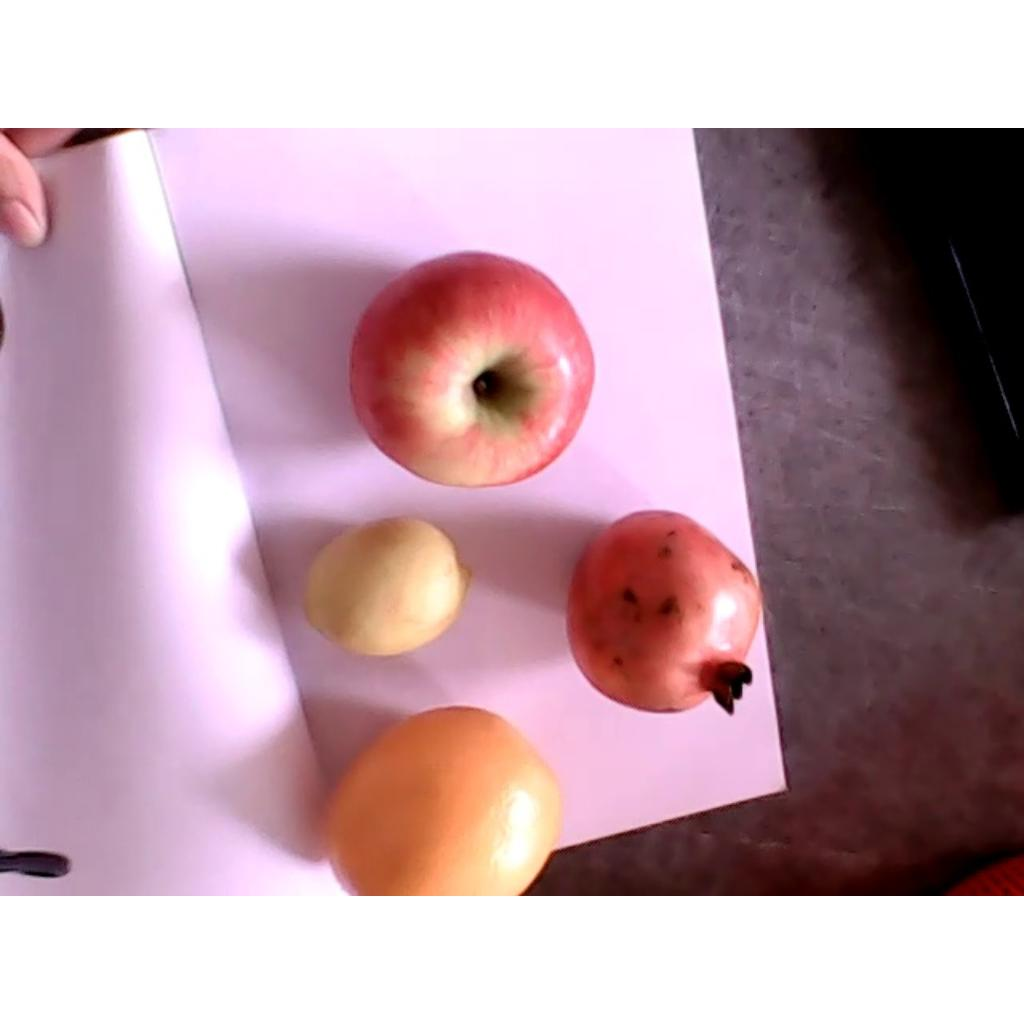apple: (348, 252, 594, 489)
lemon: (300, 516, 470, 659)
orange: (326, 708, 556, 894)
pomegranate: (565, 509, 761, 719)
